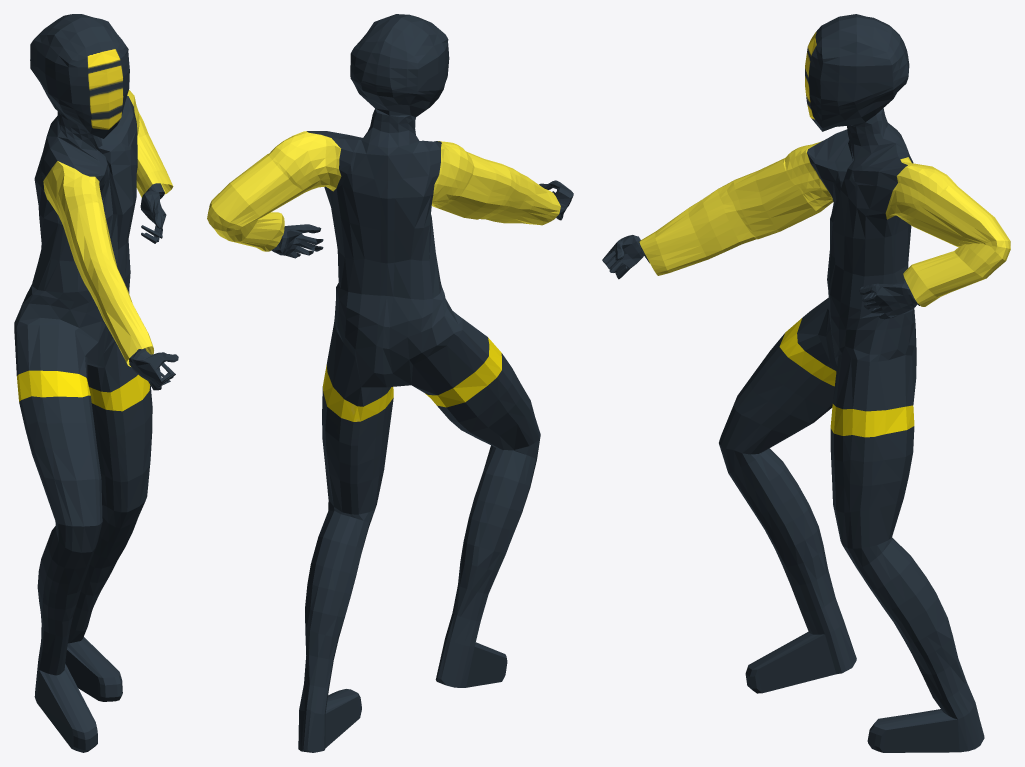
File: Sentry_WF_000019.obj
3 views of the same model, side by side, from view 1: azimuth 30°, elevation 25°; view 2: azimuth 150°, elevation 25°; view 3: azimuth 270°, elevation 25° (orthographic).
Parts seen in each view (by area): view 1: Cube; view 2: Cube; view 3: Cube.
Boxes of the visible parts, box(x1,y1,x2,y2) form: Cube: box(14, 14, 178, 752); Cube: box(207, 14, 573, 752); Cube: box(602, 14, 1010, 752).
Size of the model in its own units: 1.18 by 3.8 by 1.98.
